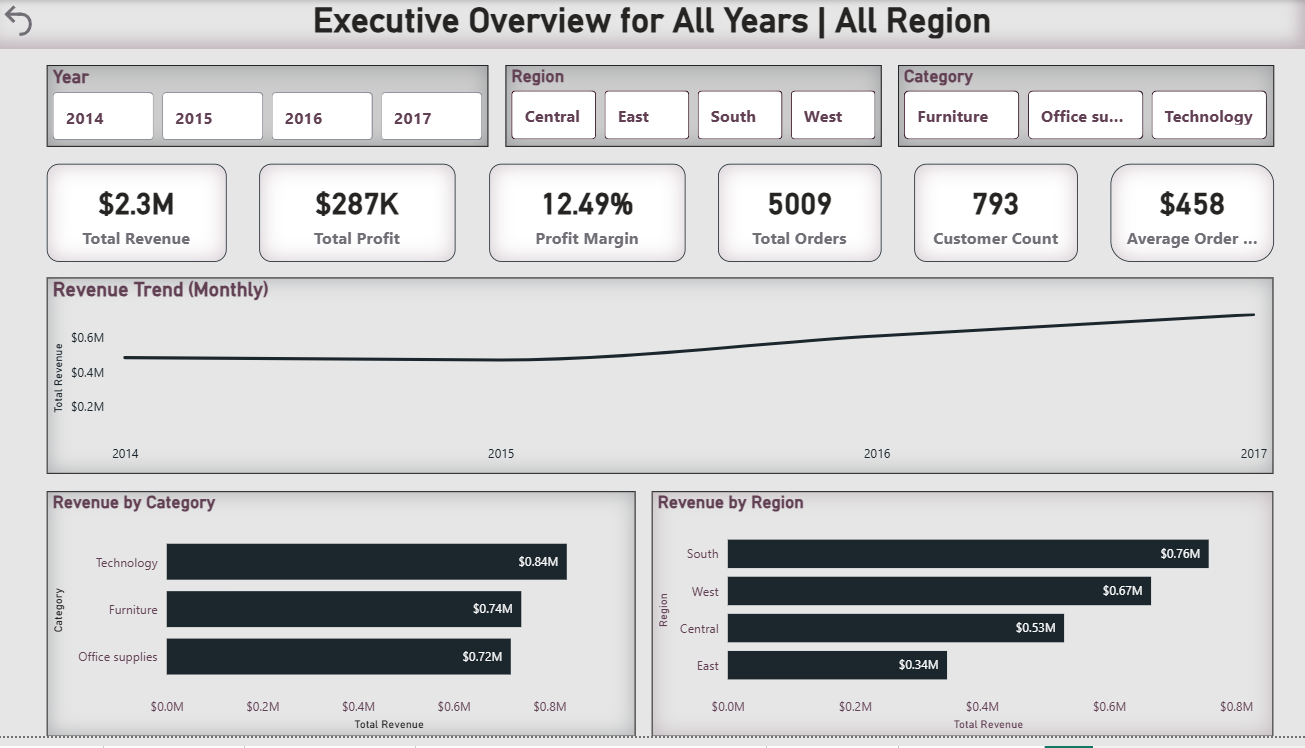

This screenshot's page, from the dashboard's own definition file:
{"tool":"powerbi","page":{"name":"Executive Overview","canvas":[1280,720],"ordinal":0},"visuals":[{"type":"textbox","box":[0,0,1280,48],"z":0},{"type":"card","fields":{"Values":["Measures (2).Total Revenue"]},"box":[48,160,176,96],"z":1000},{"type":"card","fields":{"Values":["Measures (2).Total Profit"]},"box":[256,160,192,96],"z":2000},{"type":"card","fields":{"Values":["Measures (2).Profit Margin"]},"box":[480,160,192,96],"z":3000},{"type":"card","fields":{"Values":["Measures (2).Total Orders"]},"box":[704,160,160,96],"z":4000},{"type":"card","fields":{"Values":["Measures (2).Customer Count"]},"box":[896,160,160,96],"z":5000},{"type":"card","fields":{"Values":["Measures (2).Average Order Value(AOV)"]},"box":[1088,160,160,96],"z":6000},{"type":"barChart","title":"Revenue by Category","fields":{"Category":["Dim_Products.Category"],"Y":["Measures (2).Total Revenue"]},"box":[48,480,576,240],"z":7000},{"type":"barChart","title":" Revenue by Region","fields":{"Category":["Dim_Region.Region"],"Y":["Measures (2).Total Revenue"]},"box":[640,480,608,240],"z":8000},{"type":"lineChart","title":"Revenue Trend (Monthly)","fields":{"Y":["Measures (2).Total Revenue"],"Category":["Dim_Date.full_date.Variation.Date Hierarchy.Year","Dim_Date.full_date.Variation.Date Hierarchy.Quarter","Dim_Date.full_date.Variation.Date Hierarchy.Month","Dim_Date.full_date.Variation.Date Hierarchy.Day"]},"box":[48,272,1200,192],"z":9000},{"type":"advancedSlicerVisual","fields":{"Values":["Dim_Region.Region"]},"box":[496,64,368,80],"z":10000},{"type":"advancedSlicerVisual","fields":{"Values":["Dim_Products.Category"]},"box":[880,64,368,80],"z":11000},{"type":"advancedSlicerVisual","title":"Year","fields":{"Values":["Dim_Date.full_date.Variation.Date Hierarchy.Year"]},"box":[48,64,432,80],"z":12000},{"type":"actionButton","box":[0,0,100,40],"z":13000}]}

Visuals, with their boxes in screenshot pixels (x1, y1, x2, y2), scaled from the page's 1280x720 canvas onto the 1305x748 screenshot:
textbox: [x1=0, y1=0, x2=1304, y2=50]
card - Measures (2).Total Revenue: [x1=49, y1=166, x2=228, y2=266]
card - Measures (2).Total Profit: [x1=261, y1=166, x2=457, y2=266]
card - Measures (2).Profit Margin: [x1=489, y1=166, x2=685, y2=266]
card - Measures (2).Total Orders: [x1=718, y1=166, x2=881, y2=266]
card - Measures (2).Customer Count: [x1=914, y1=166, x2=1077, y2=266]
card - Measures (2).Average Order Value(AOV): [x1=1109, y1=166, x2=1272, y2=266]
"Revenue by Category" barChart: [x1=49, y1=499, x2=636, y2=747]
" Revenue by Region" barChart: [x1=652, y1=499, x2=1272, y2=747]
"Revenue Trend (Monthly)" lineChart: [x1=49, y1=283, x2=1272, y2=482]
advancedSlicerVisual - Dim_Region.Region: [x1=506, y1=66, x2=881, y2=150]
advancedSlicerVisual - Dim_Products.Category: [x1=897, y1=66, x2=1272, y2=150]
"Year" advancedSlicerVisual: [x1=49, y1=66, x2=489, y2=150]
actionButton: [x1=0, y1=0, x2=102, y2=42]
